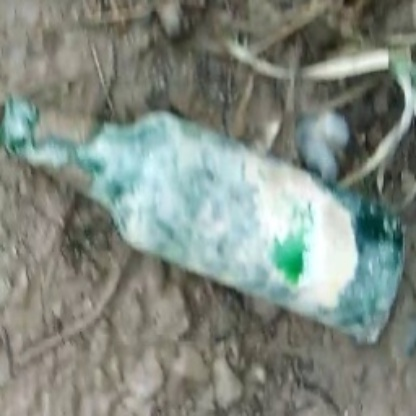bottle: (8, 85, 412, 348)
